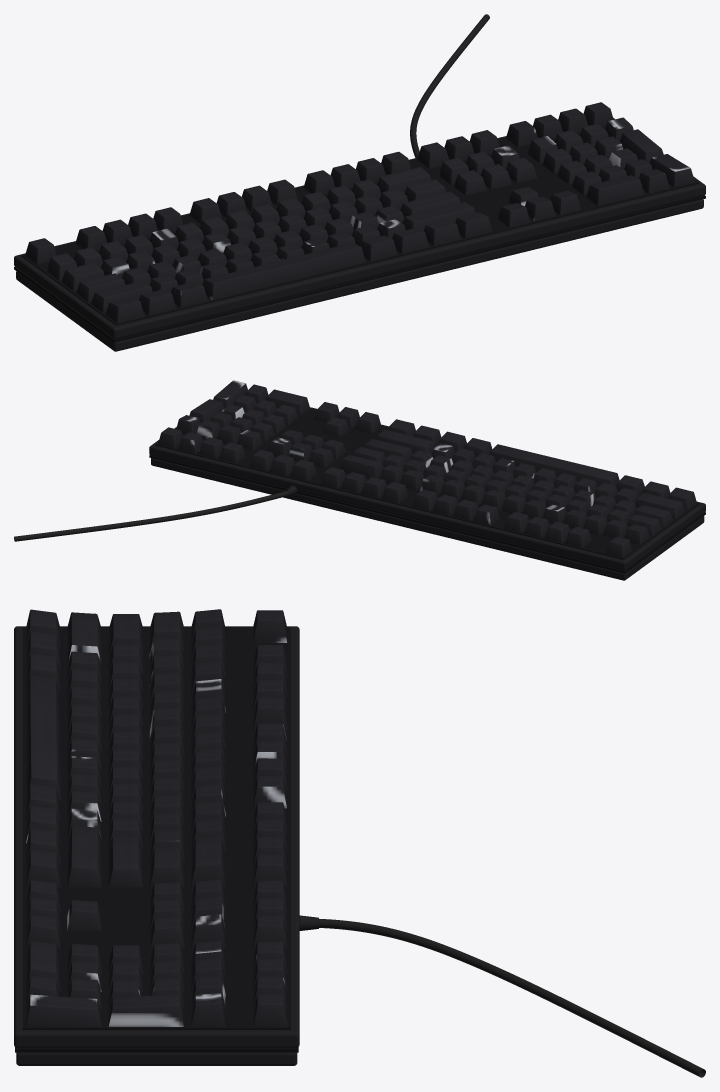
Rendered from keyboard_uv2.glb.
3 views of the same model, one above another, from view 1: azimuth 30°, elevation 25°; view 2: azimuth 150°, elevation 25°; view 3: azimuth 270°, elevation 25° (orthographic). The views are drawn at different scales.
Parts seen in each view (by area): view 1: shell_top, shell_bot, plate, key_space, seam, key_np0, cable, key_rshift, key_lshift, key_npenter, key_backspace, key_npplus (+37 smaller); view 2: shell_top, plate, shell_bot, key_space, seam, cable, key_rshift, key_backspace, key_lshift, key_np0, key_enter, key_npenter (+53 smaller); view 3: plate, shell_top, cable, shell_bot, key_space, key_npplus, key_npenter, key_rshift, key_enter, key_backspace, seam, key_lshift (+22 smaller).
Boxes of the visible parts, x1,y1,x2,y2 form: shell_top: (14,117,705,339); shell_bot: (16,199,703,351); plate: (21,125,698,325); key_space: (202,243,365,300); seam: (14,195,705,342); key_np0: (586,175,644,205); cable: (410,14,489,157); key_rshift: (402,202,475,230); key_lshift: (91,281,152,312); key_npenter: (649,154,694,187); key_backspace: (377,167,431,193); key_npplus: (620,129,663,163); shell_top: (149,407,705,570); plate: (155,408,699,559); shell_bot: (151,458,704,580); key_space: (489,444,619,486); seam: (149,455,705,573); cable: (14,491,289,541); key_rshift: (376,429,434,453); key_backspace: (339,455,383,478); key_lshift: (635,493,685,518); key_np0: (265,389,310,415); key_enter: (364,439,412,462); key_npenter: (213,380,247,407); plate: (22,627,290,1029); shell_top: (14,626,299,1047); cable: (319,919,705,1077); shell_bot: (16,1052,297,1065); key_space: (25,675,61,799); key_npplus: (108,994,184,1026); key_npenter: (25,994,101,1026); key_rshift: (67,826,102,887); key_enter: (108,836,143,887); key_backspace: (190,836,225,887); seam: (15,1047,298,1052); key_lshift: (67,612,101,664).
Size of the model in its own units: 0.4655 by 0.0323 by 0.3194.
6 materials, 1 textured.
